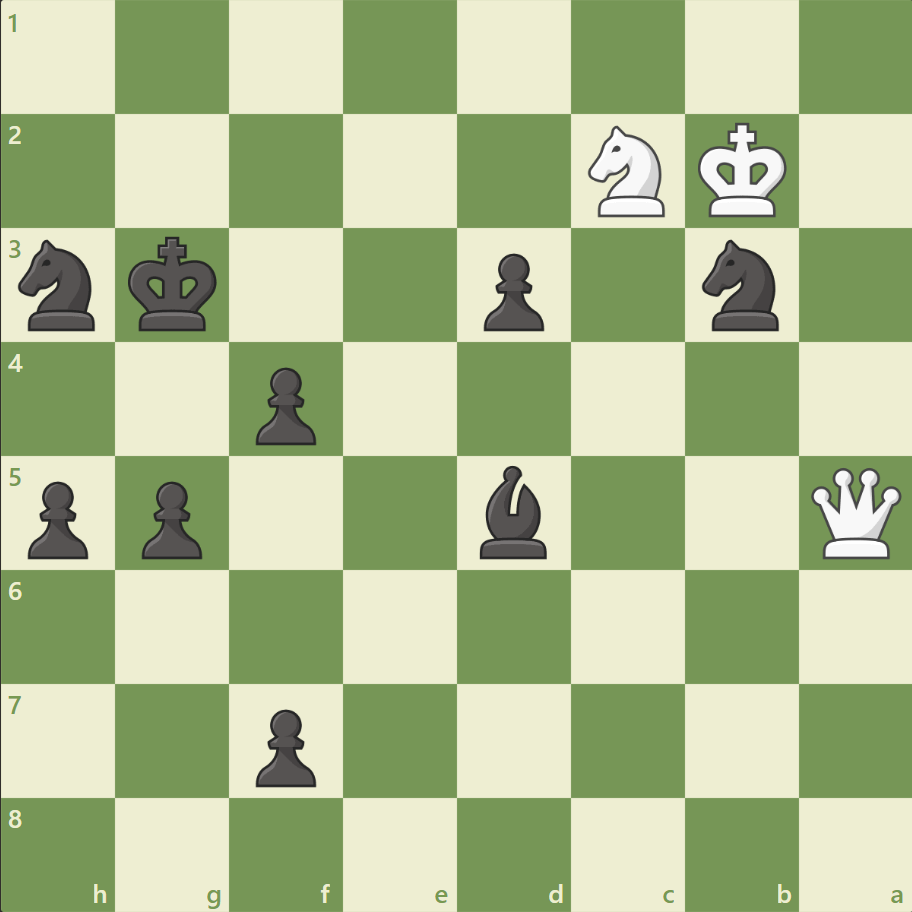K: (692, 117, 792, 225)
N: (579, 121, 676, 223)
Q: (805, 463, 904, 562)
b: (471, 460, 555, 563)
k: (124, 231, 224, 339)
n: (692, 234, 789, 337), (11, 234, 108, 337)
p: (247, 700, 322, 791), (133, 473, 208, 564), (20, 473, 95, 564), (247, 359, 322, 450), (474, 246, 549, 337)
